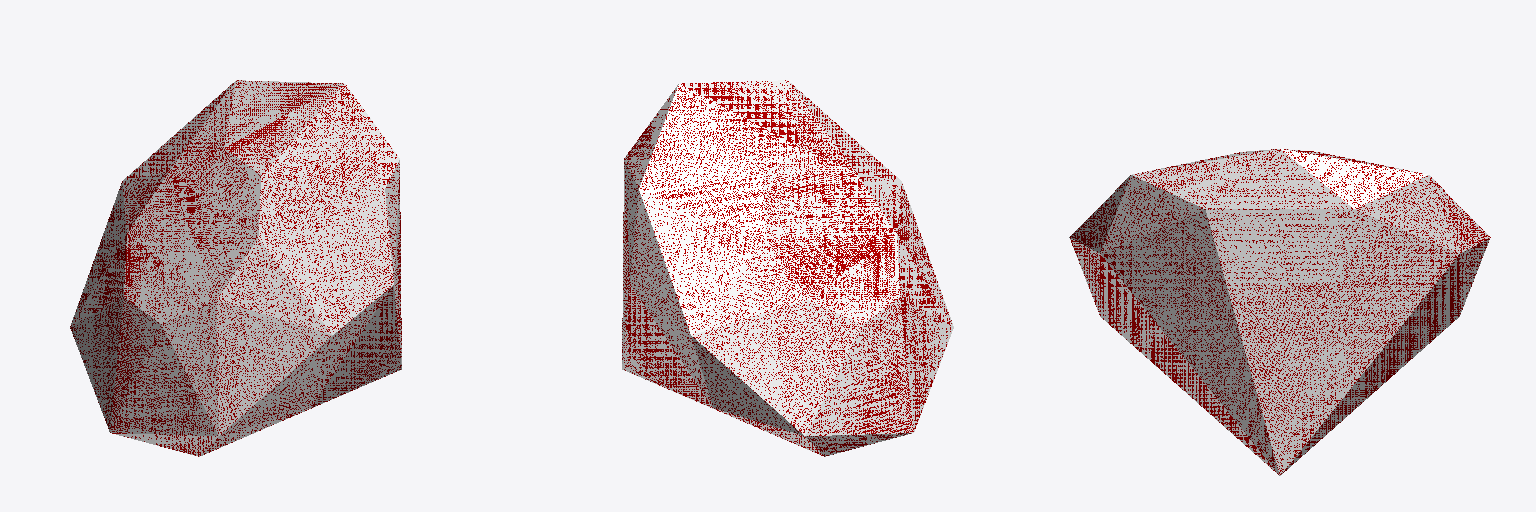
File: gem.obj
3 renders of one model, left to right at view 1: azimuth 30°, elevation 25°; view 2: azimuth 150°, elevation 25°; view 3: azimuth 270°, elevation 25°, orthographic.
Parts seen in each view (by area): view 1: group_0_ID4; view 2: group_0_ID4; view 3: group_0_ID4.
Part boxes in pixels (left/top/right/bottom): group_0_ID4: left=70, top=80, right=401, bottom=456; group_0_ID4: left=622, top=80, right=953, bottom=456; group_0_ID4: left=1069, top=149, right=1490, bottom=475.
Bounding box in the file's own units: 0.6143 × 0.606 × 0.7677.